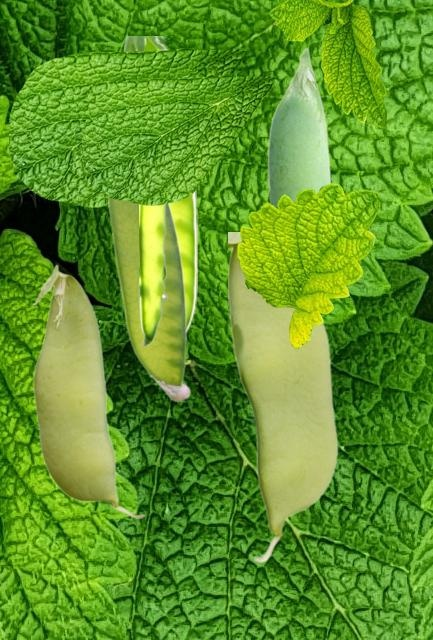pea: (228, 232, 337, 562), (31, 264, 145, 518), (124, 36, 196, 332), (107, 197, 190, 400), (267, 47, 330, 206), (139, 205, 168, 344)
